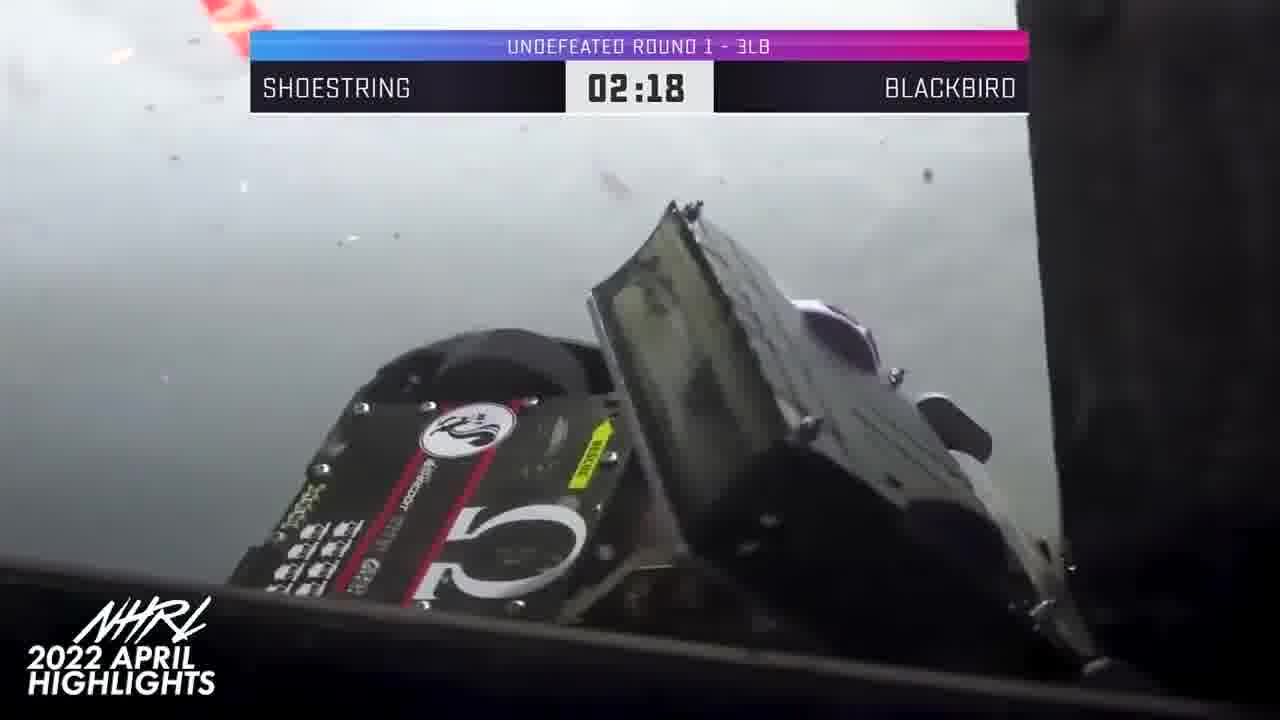combatbot: (587, 197, 1119, 690), (223, 327, 642, 689)
